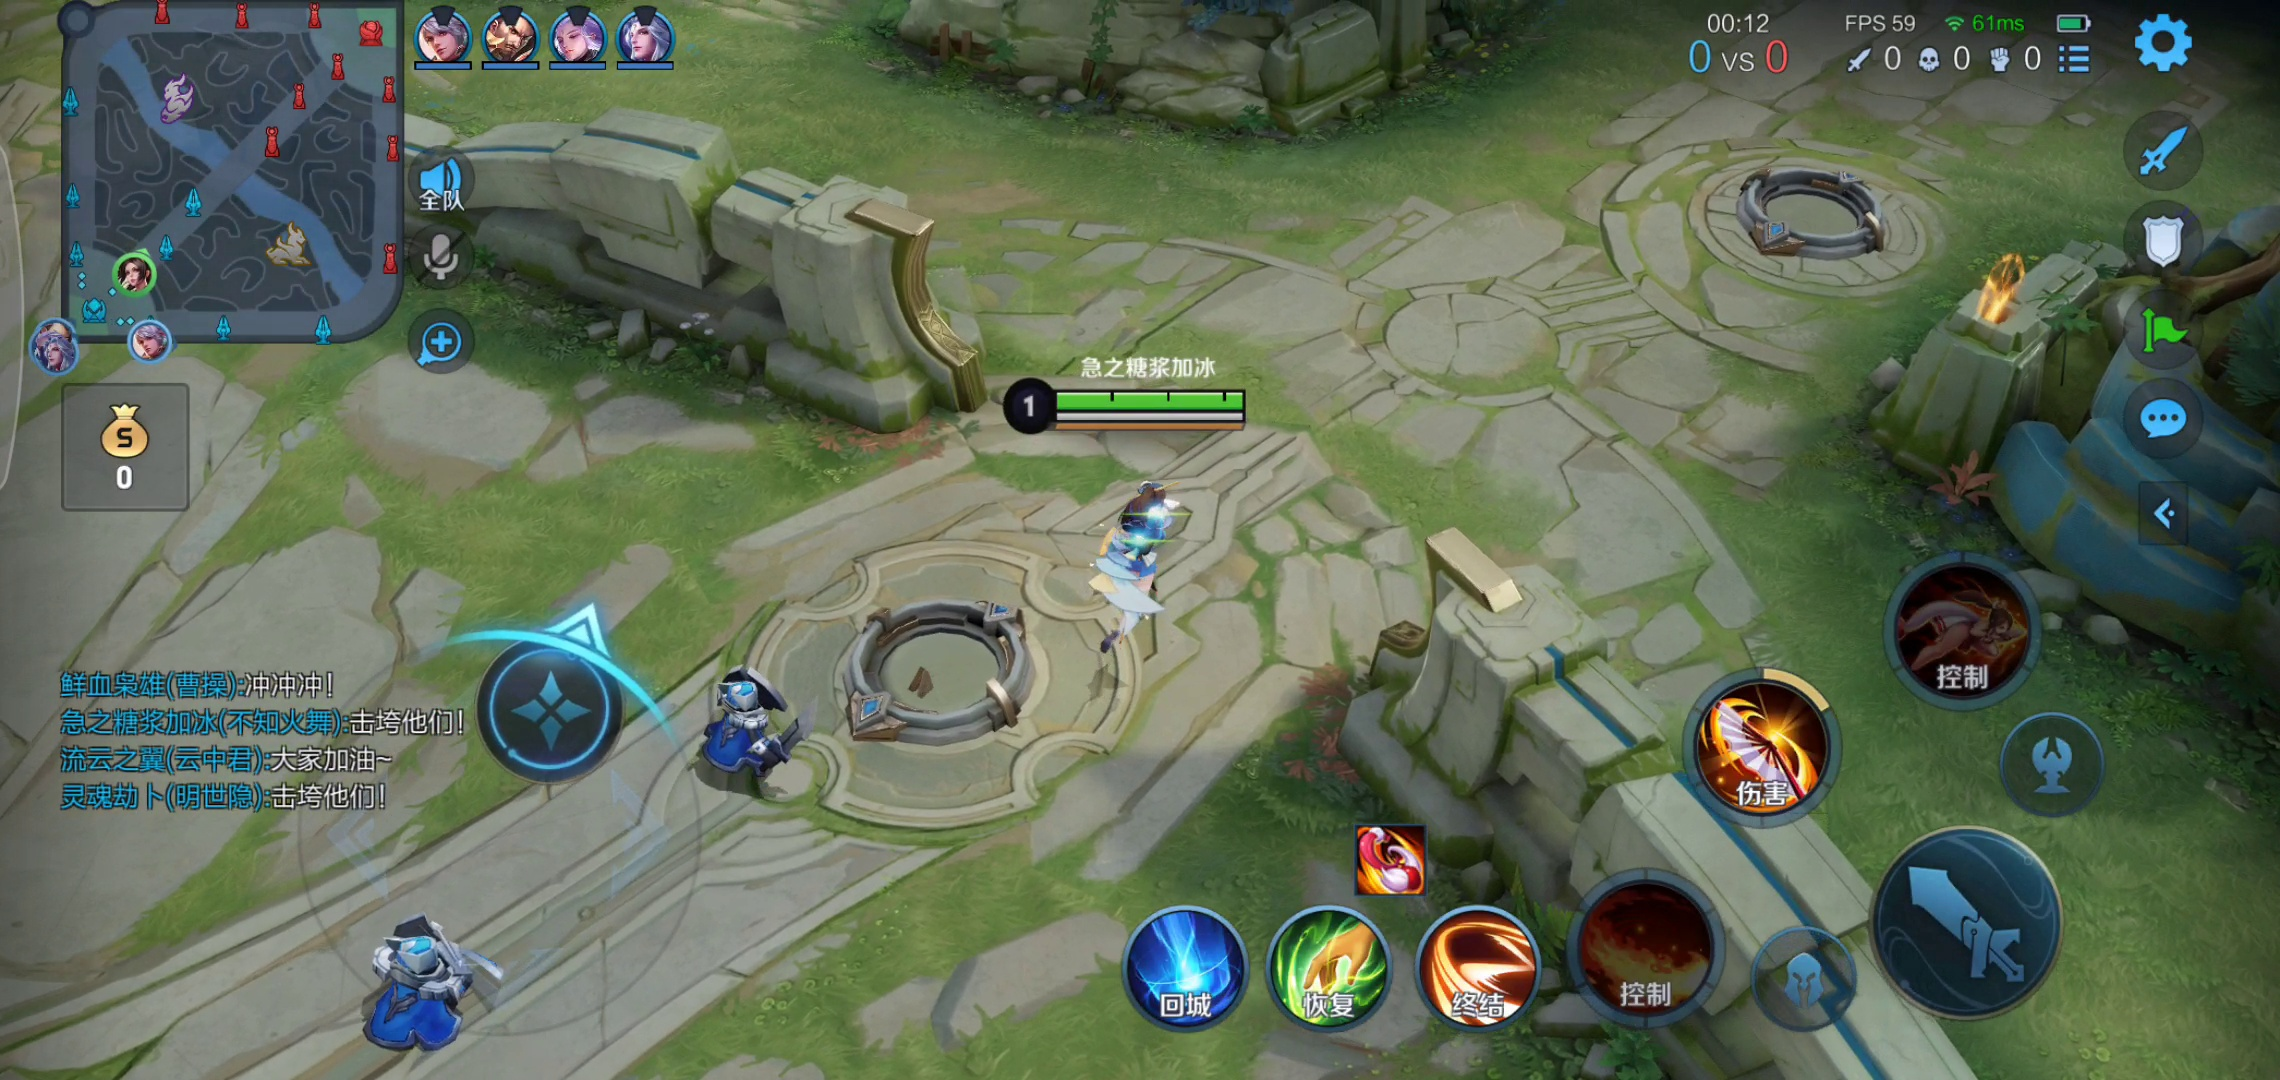hero: (1077, 468, 1195, 653)
soldier: (350, 906, 510, 1052), (676, 657, 814, 792)
